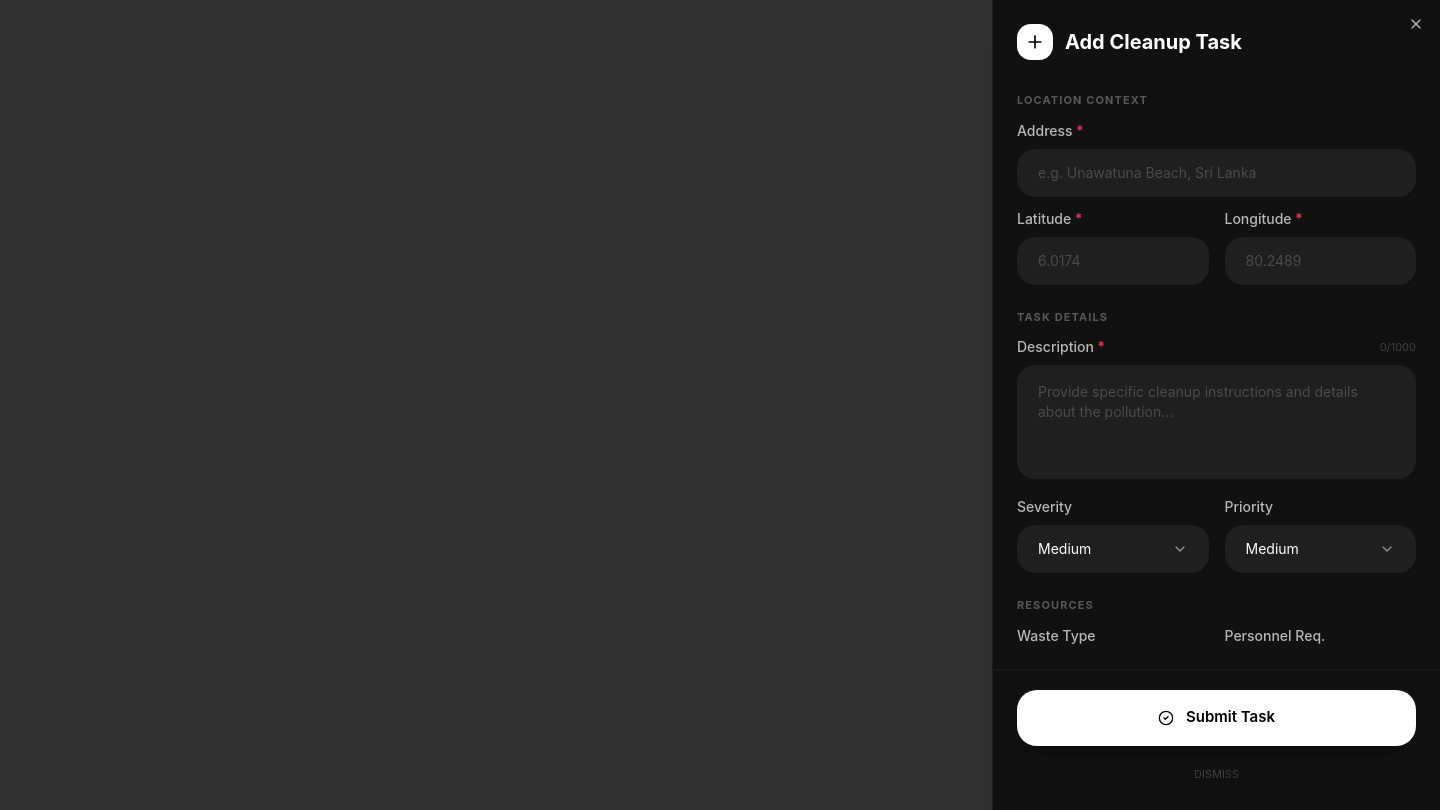
Scenario: CreateTaskModal Component Validation › shows validation errors for required fields
This screenshot has width=1440, height=810.
Click the button "Submit Task": (1216, 718) top-left (1017, 690), bottom-right (1416, 746)
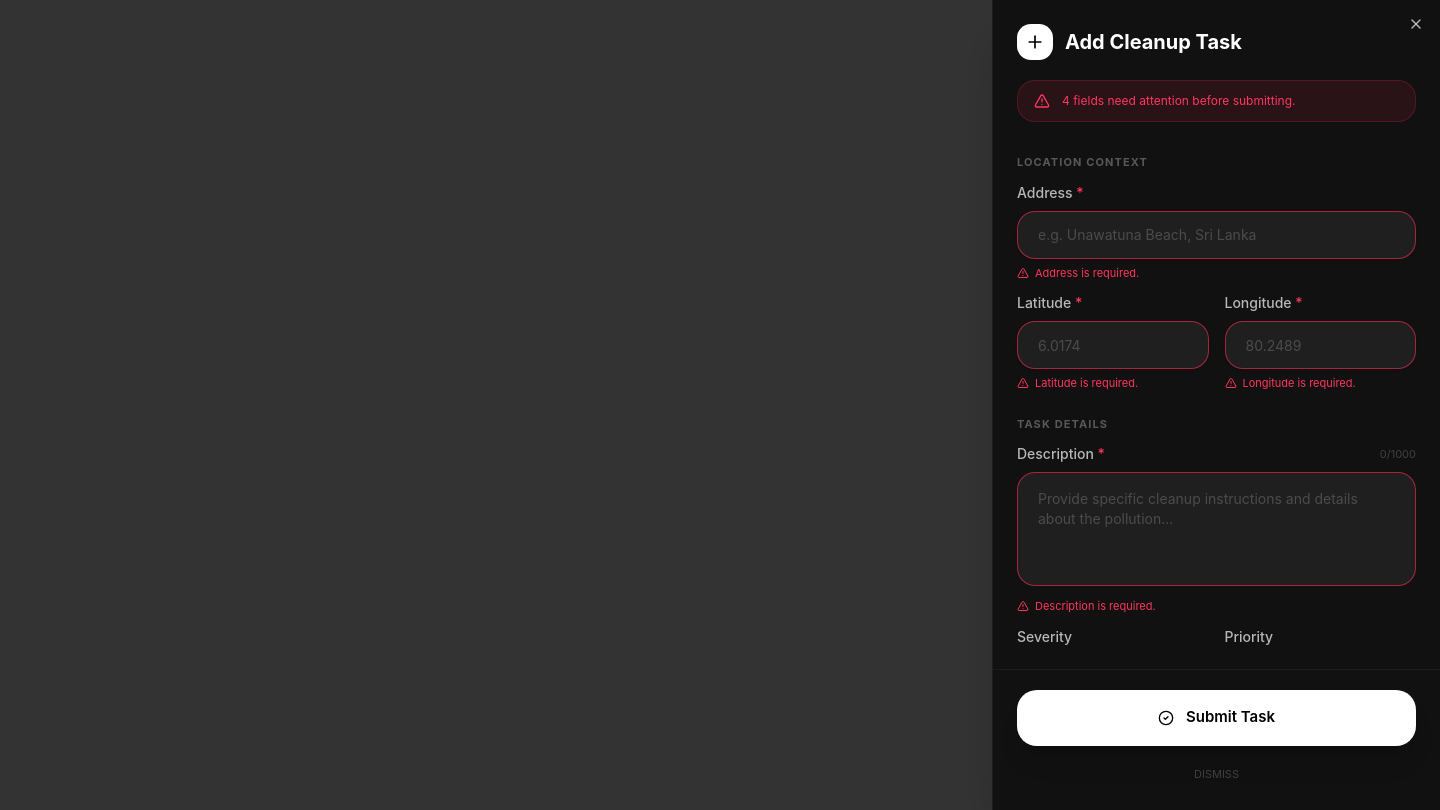
Check: the text "Address is required." is shown, box top-left (1017, 266), bottom-right (1139, 280)
Check: the text "Latitude is required." is shown, box top-left (1017, 376), bottom-right (1138, 390)
Check: the text "Longitude is required." is shown, box top-left (1224, 376), bottom-right (1356, 390)
